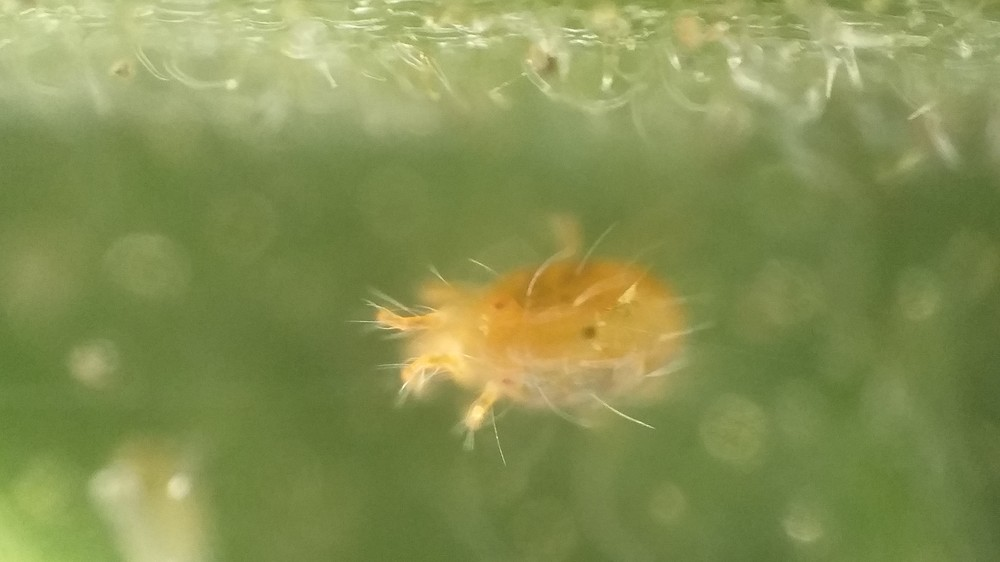Aracnido Rojo: (342, 209, 728, 468)
